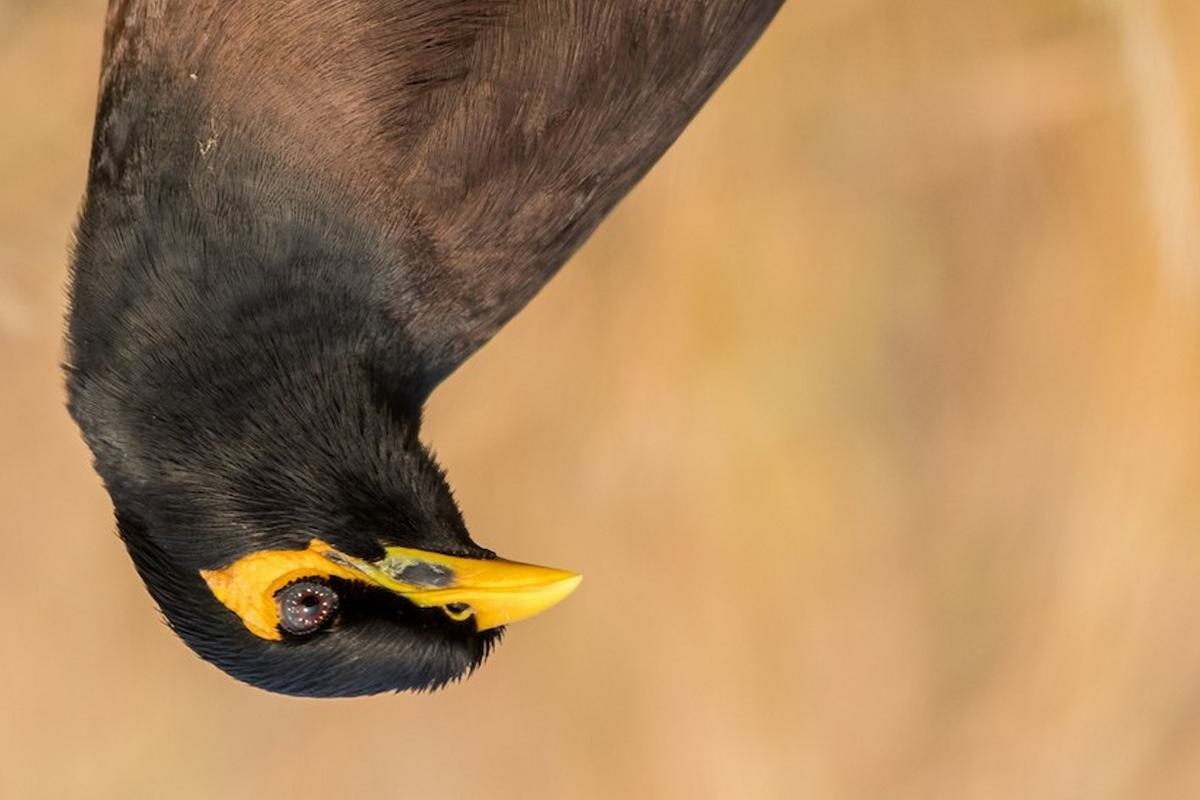myna: (96, 1, 937, 697)
